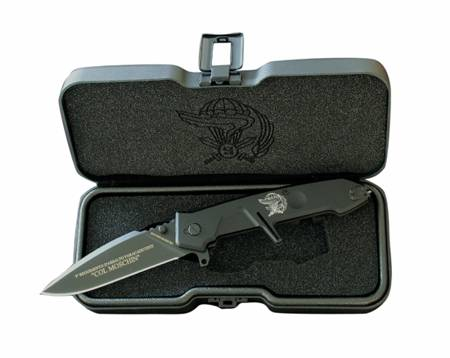knife: (33, 210, 217, 298)
